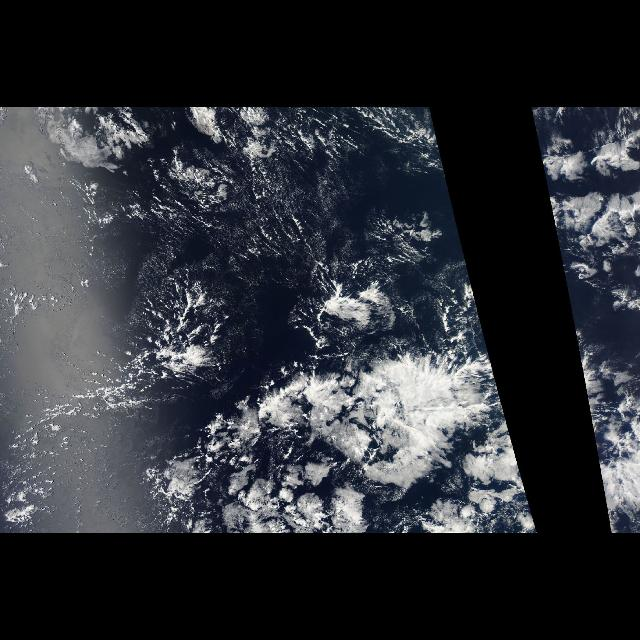Fish: (254, 344, 496, 488)
Sugar: (113, 157, 419, 347)
